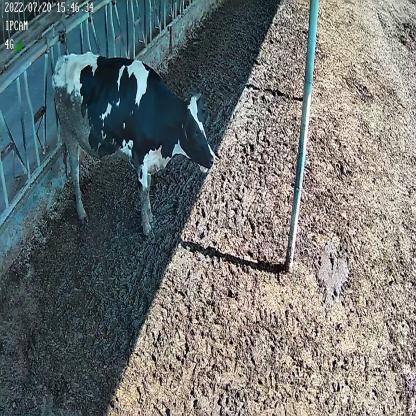cow: (54, 55, 214, 235)
